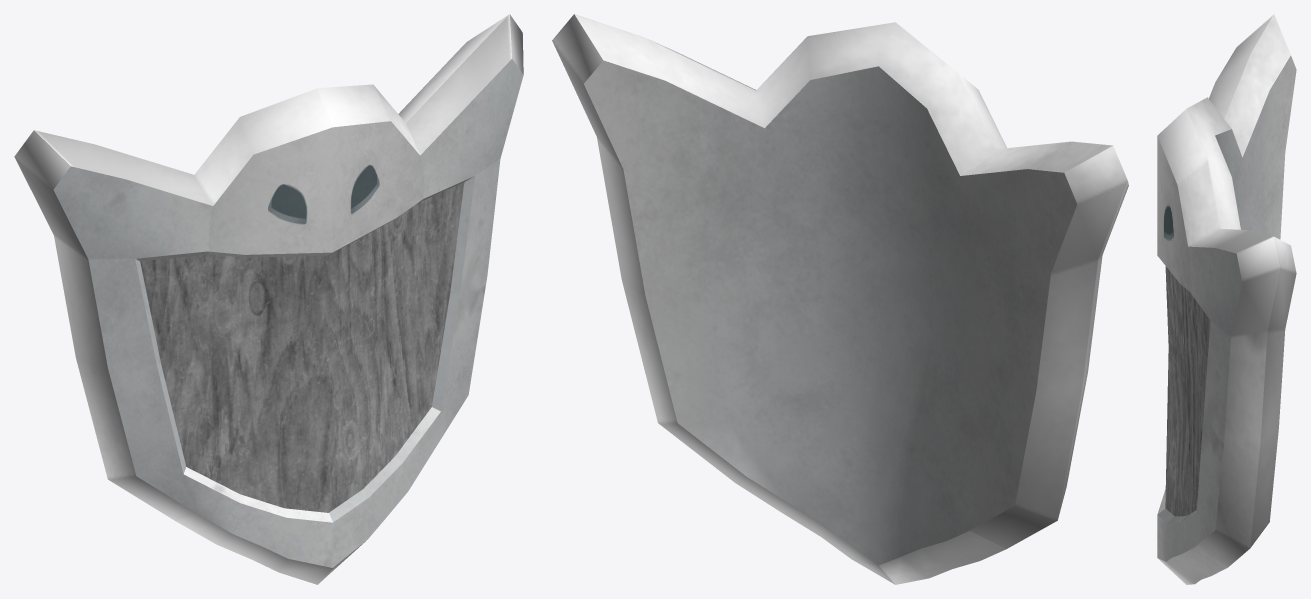
Rendered from shield.fbx.
3 views of the same model, side by side, from view 1: azimuth 30°, elevation 25°; view 2: azimuth 150°, elevation 25°; view 3: azimuth 270°, elevation 25° (orthographic). The views are drawn at different scales.
Parts seen in each view (by area): view 1: pCube1; view 2: pCube1; view 3: pCube1.
Part boxes in pixels (x1,y1,x2,y2): pCube1: [14, 14, 523, 584]; pCube1: [552, 14, 1128, 584]; pCube1: [1157, 14, 1296, 584].
Size of the model in its own units: 18.5 by 17.27 by 4.57.
1 material, 1 textured.
